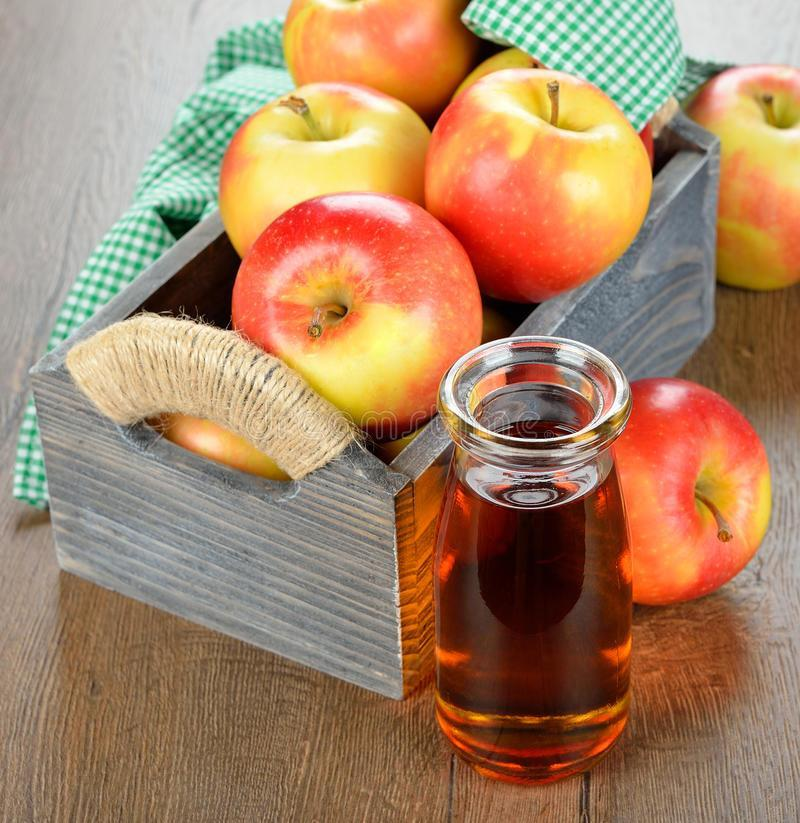apple: (230, 189, 486, 448), (420, 56, 653, 303), (216, 82, 432, 263), (600, 378, 769, 606)
